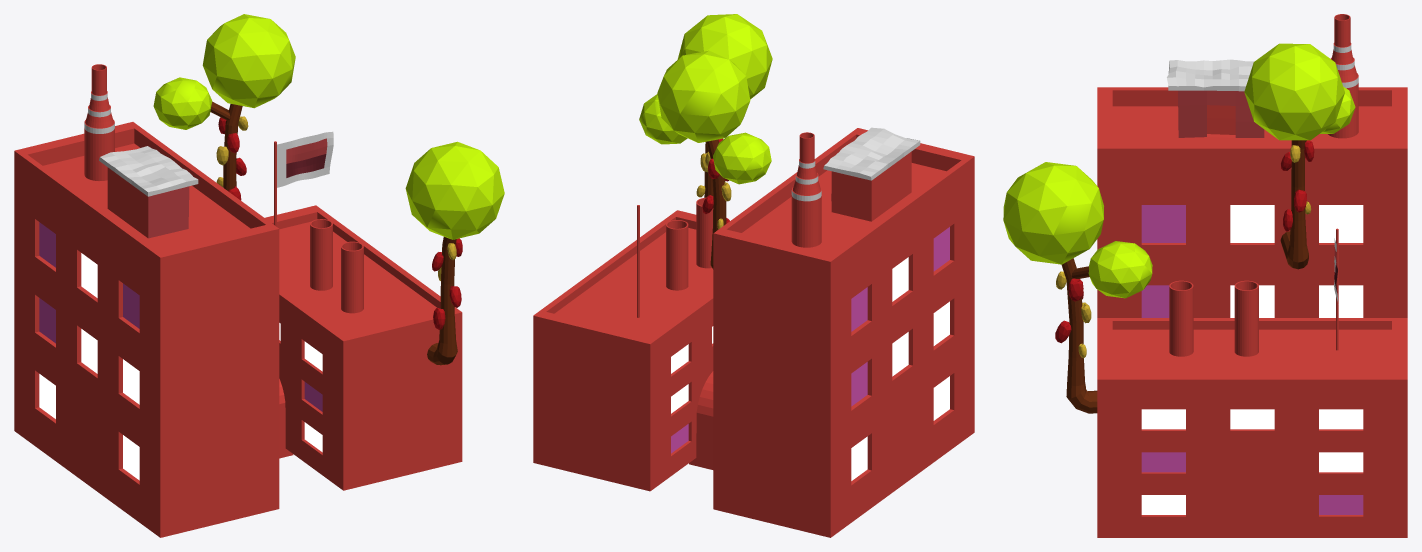
File: factory.glb
3 views of the same model, side by side, from view 1: azimuth 30°, elevation 25°; view 2: azimuth 150°, elevation 25°; view 3: azimuth 270°, elevation 25° (orthographic). The views are drawn at different scales.
Parts seen in each view (by area): view 1: cacaotree; view 2: cacaotree; view 3: cacaotree.
Boxes of the visible parts, left/top/right/bottom form: cacaotree: left=14, top=14, right=504, bottom=537; cacaotree: left=533, top=14, right=974, bottom=537; cacaotree: left=1003, top=14, right=1407, bottom=537.
Size of the model in its own units: 0.9453 by 1.15 by 0.9573.
